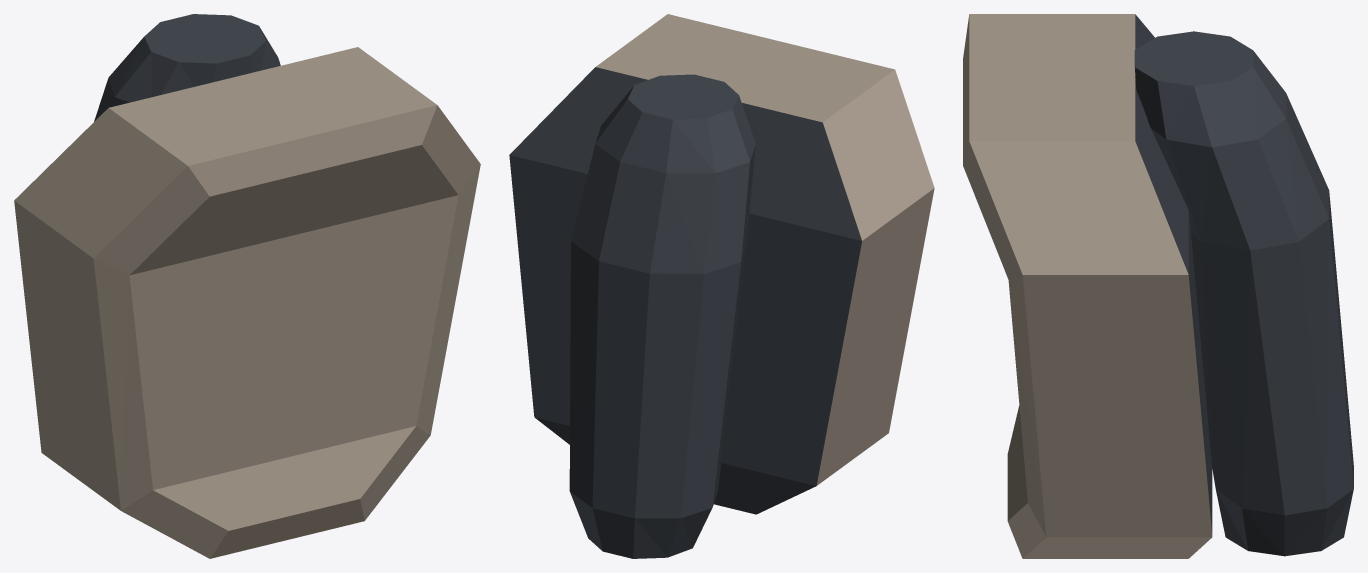
File: thigh_medium.glb
3 views of the same model, side by side, from view 1: azimuth 30°, elevation 25°; view 2: azimuth 150°, elevation 25°; view 3: azimuth 270°, elevation 25° (orthographic). The views are drawn at different scales.
Visible parts, largest first — view 1: thigh_medium; view 2: thigh_medium; view 3: thigh_medium.
Part boxes in pixels (x1=…): thigh_medium: x1=14, y1=14, x2=480, y2=558; thigh_medium: x1=509, y1=14, x2=934, y2=558; thigh_medium: x1=963, y1=14, x2=1353, y2=558.
Bounding box in the file's own units: 0.9 × 1 × 0.7532.
